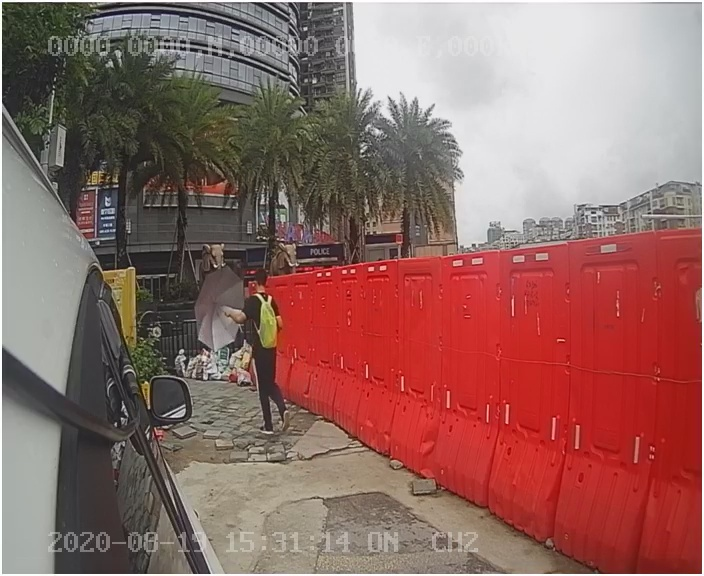person: (224, 270, 302, 444)
